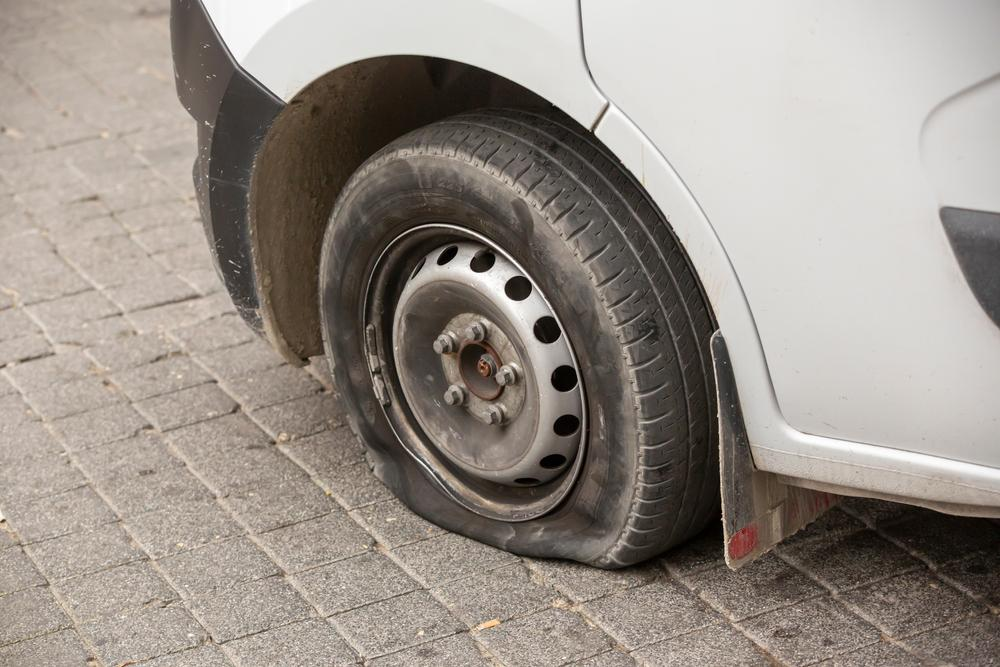tire flat: (321, 106, 715, 569)
